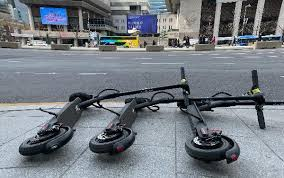fallin_kick: (19, 67, 190, 157), (89, 70, 265, 156)
